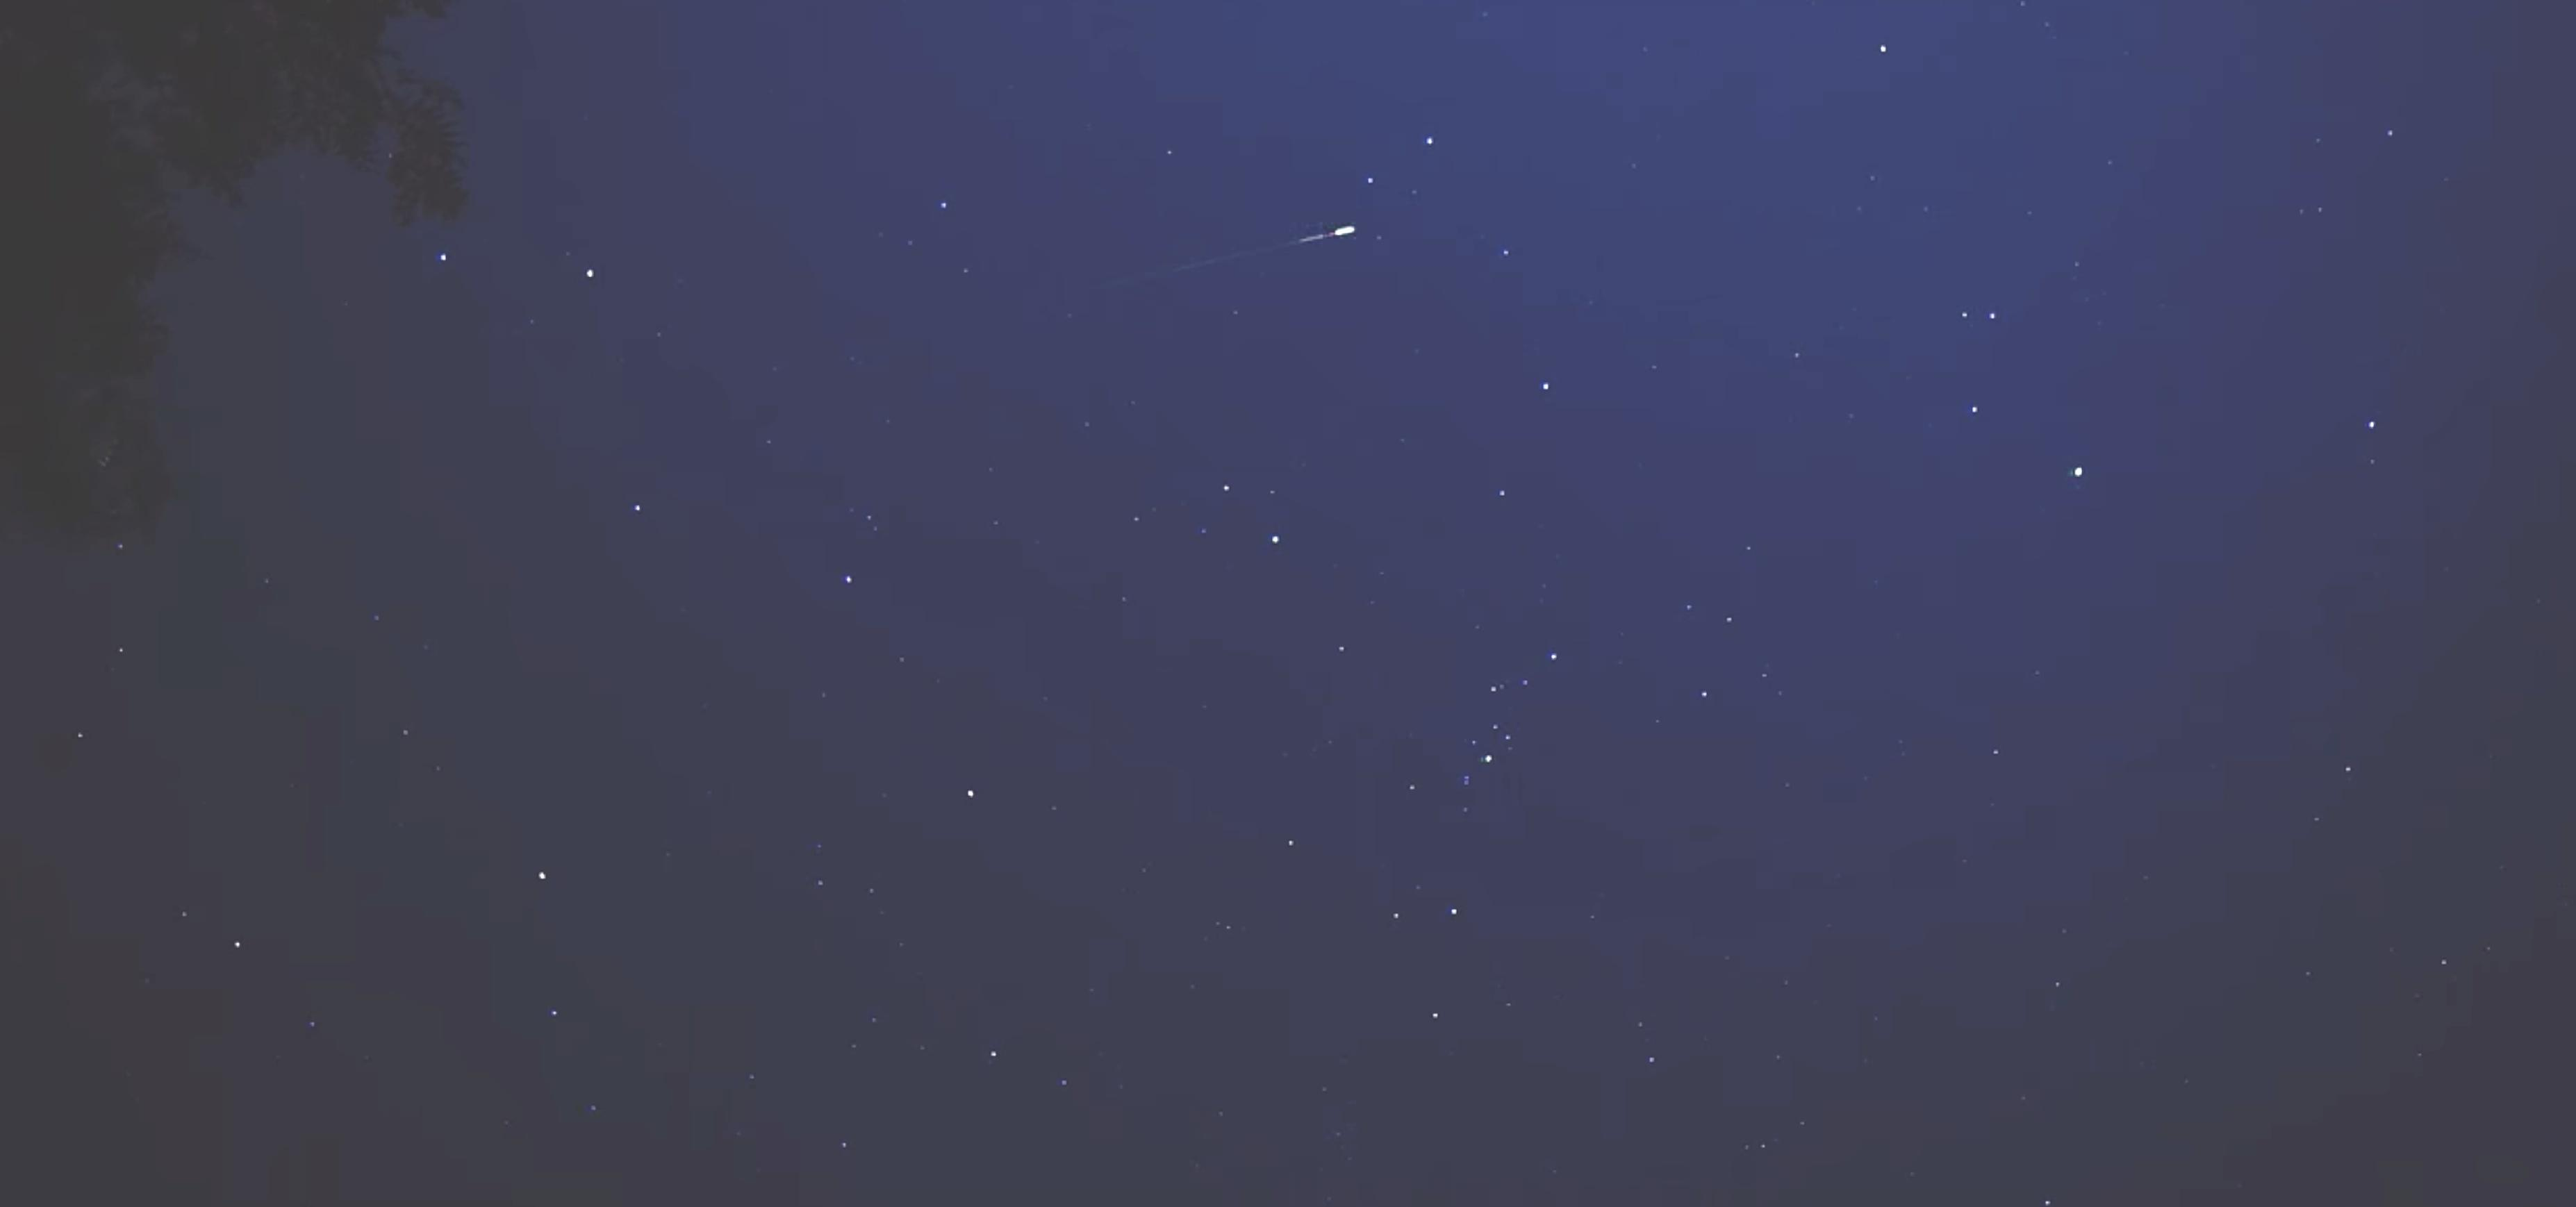meteorite: (1125, 212, 1410, 287)
